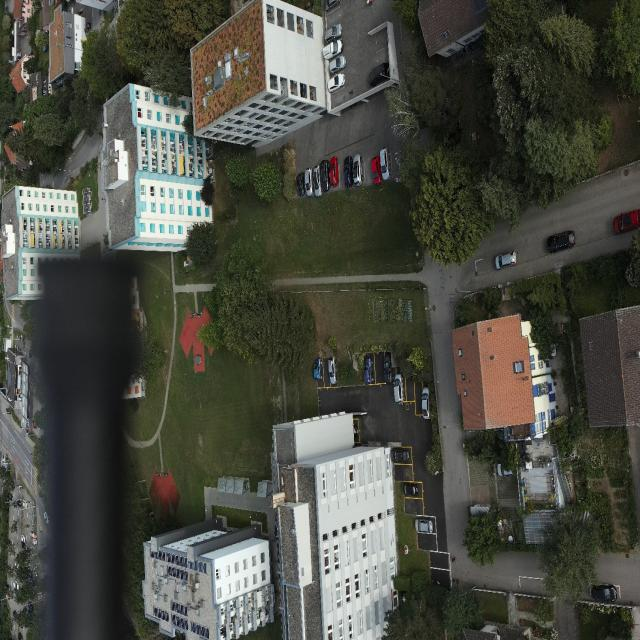panneaux_solaires: (150, 548, 208, 576), (191, 620, 212, 639), (167, 566, 189, 580), (171, 613, 188, 631), (152, 606, 171, 622), (171, 602, 188, 614)
